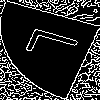L: (24, 25, 92, 68)
